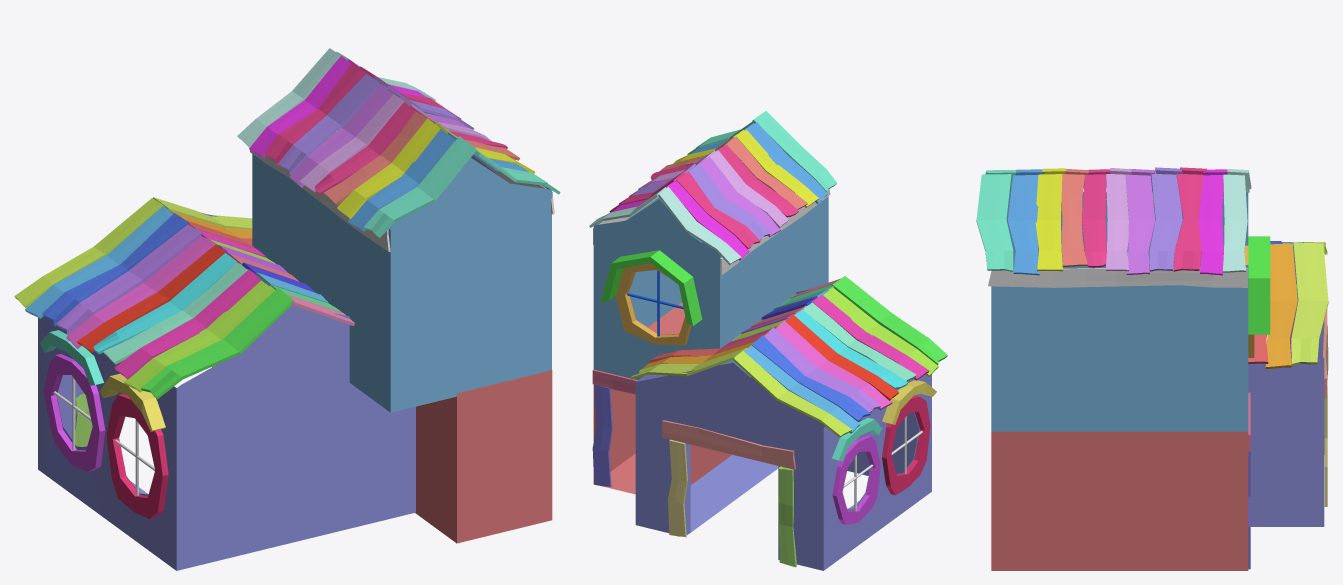
The model's file is styled envirenment3.fbx.
3 renders of one model, left to right at view 1: azimuth 30°, elevation 25°; view 2: azimuth 150°, elevation 25°; view 3: azimuth 270°, elevation 25°, orthographic. The views are drawn at different scales.
Parts seen in each view (by area): view 1: Cube, Cube.004, Cube.019, Cube.035, Cube.032, Cube.050, Cube.028, Cube.005, Cube.031, Cube.030, Cube.027, Cube.033 (+20 smaller); view 2: Cube, Cube.004, Cube.019, Cube.001, Cube.047, Cube.035, Cube.032, Cube.050, Cube.025, Cube.049, Cube.028, Cube.021 (+29 smaller); view 3: Cube.004, Cube.019, Cube, Cube.018, Cube.044, Cube.043, Cube.059, Cube.058, Cube.055, Cube.054, Cube.057, Cube.060 (+7 smaller).
Boxes of the visible parts, x1,y1,x2,y2 form: Cube: (38, 213, 415, 570); Cube.004: (252, 90, 551, 412); Cube.019: (415, 370, 552, 543); Cube.035: (106, 393, 168, 518); Cube.032: (141, 288, 294, 398); Cube.050: (43, 354, 105, 471); Cube.028: (57, 224, 203, 335); Cube.005: (363, 136, 476, 237); Cube.031: (124, 280, 274, 392); Cube.030: (114, 269, 261, 379); Cube.027: (66, 236, 215, 348); Cube.033: (25, 205, 172, 318); Cube: (635, 289, 931, 570); Cube.004: (593, 196, 828, 379); Cube.019: (593, 302, 731, 494); Cube.001: (662, 420, 795, 469); Cube.047: (600, 250, 702, 325); Cube.035: (882, 395, 930, 495); Cube.032: (832, 276, 947, 365); Cube.050: (832, 435, 880, 524); Cube.025: (733, 351, 852, 437); Cube.049: (616, 263, 691, 345); Cube.028: (764, 327, 880, 412); Cube.021: (592, 384, 612, 487); Cube.004: (991, 192, 1248, 431); Cube.019: (991, 431, 1248, 570); Cube: (1248, 253, 1324, 526); Cube.018: (988, 267, 1247, 287); Cube.044: (1291, 242, 1328, 365); Cube.043: (1265, 243, 1297, 368); Cube.059: (976, 174, 1013, 271); Cube.058: (1007, 175, 1039, 275); Cube.055: (1149, 173, 1182, 271); Cube.054: (1125, 174, 1155, 274); Cube.057: (1035, 174, 1062, 271); Cube.060: (1198, 175, 1223, 275).
Bounding box in the file's own units: 307 × 428 × 274.
